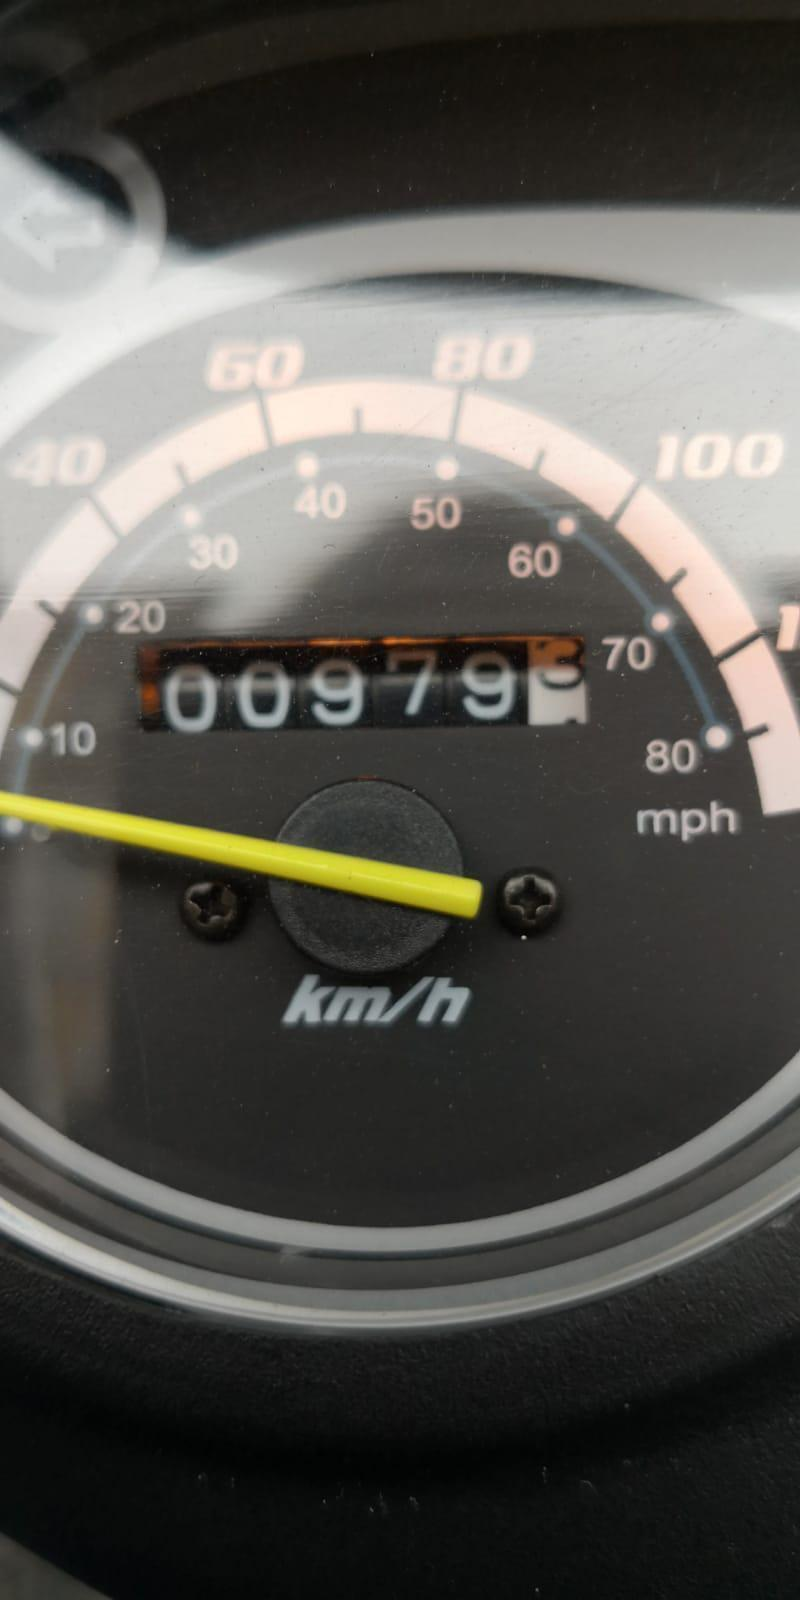0: (233, 658, 291, 737), (156, 661, 217, 735)
3: (533, 634, 592, 699)
7: (382, 647, 446, 715)
9: (459, 648, 521, 723), (304, 657, 365, 730)
odometer: (138, 624, 606, 760)
